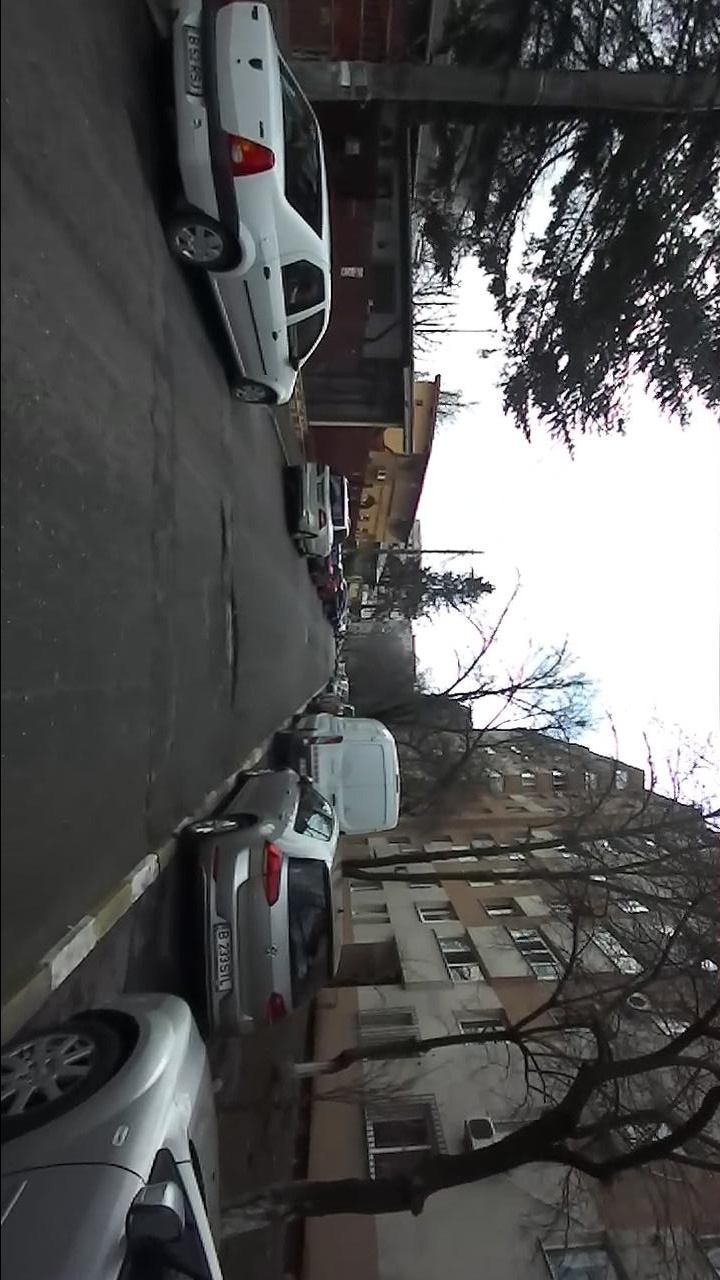pothole: (219, 580, 242, 713), (135, 768, 157, 844), (216, 499, 230, 575)
